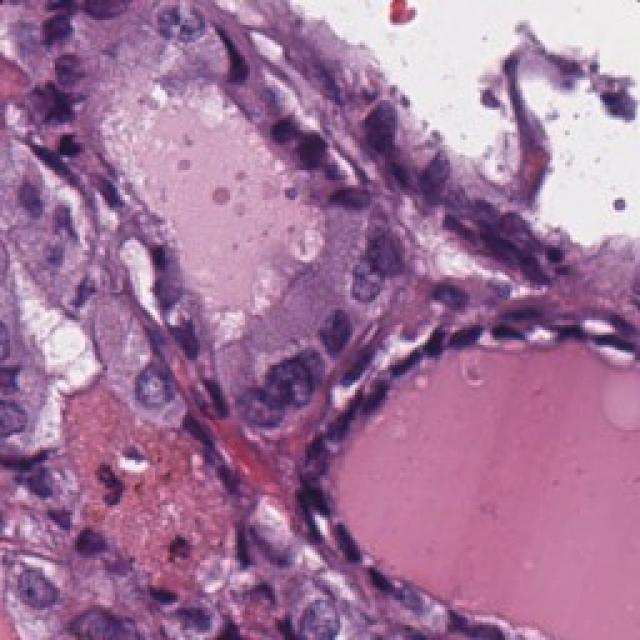abnormal: (282, 567, 392, 640), (117, 341, 198, 431), (305, 245, 388, 328), (3, 544, 73, 628), (223, 368, 300, 442), (263, 353, 332, 423), (356, 218, 421, 290)
